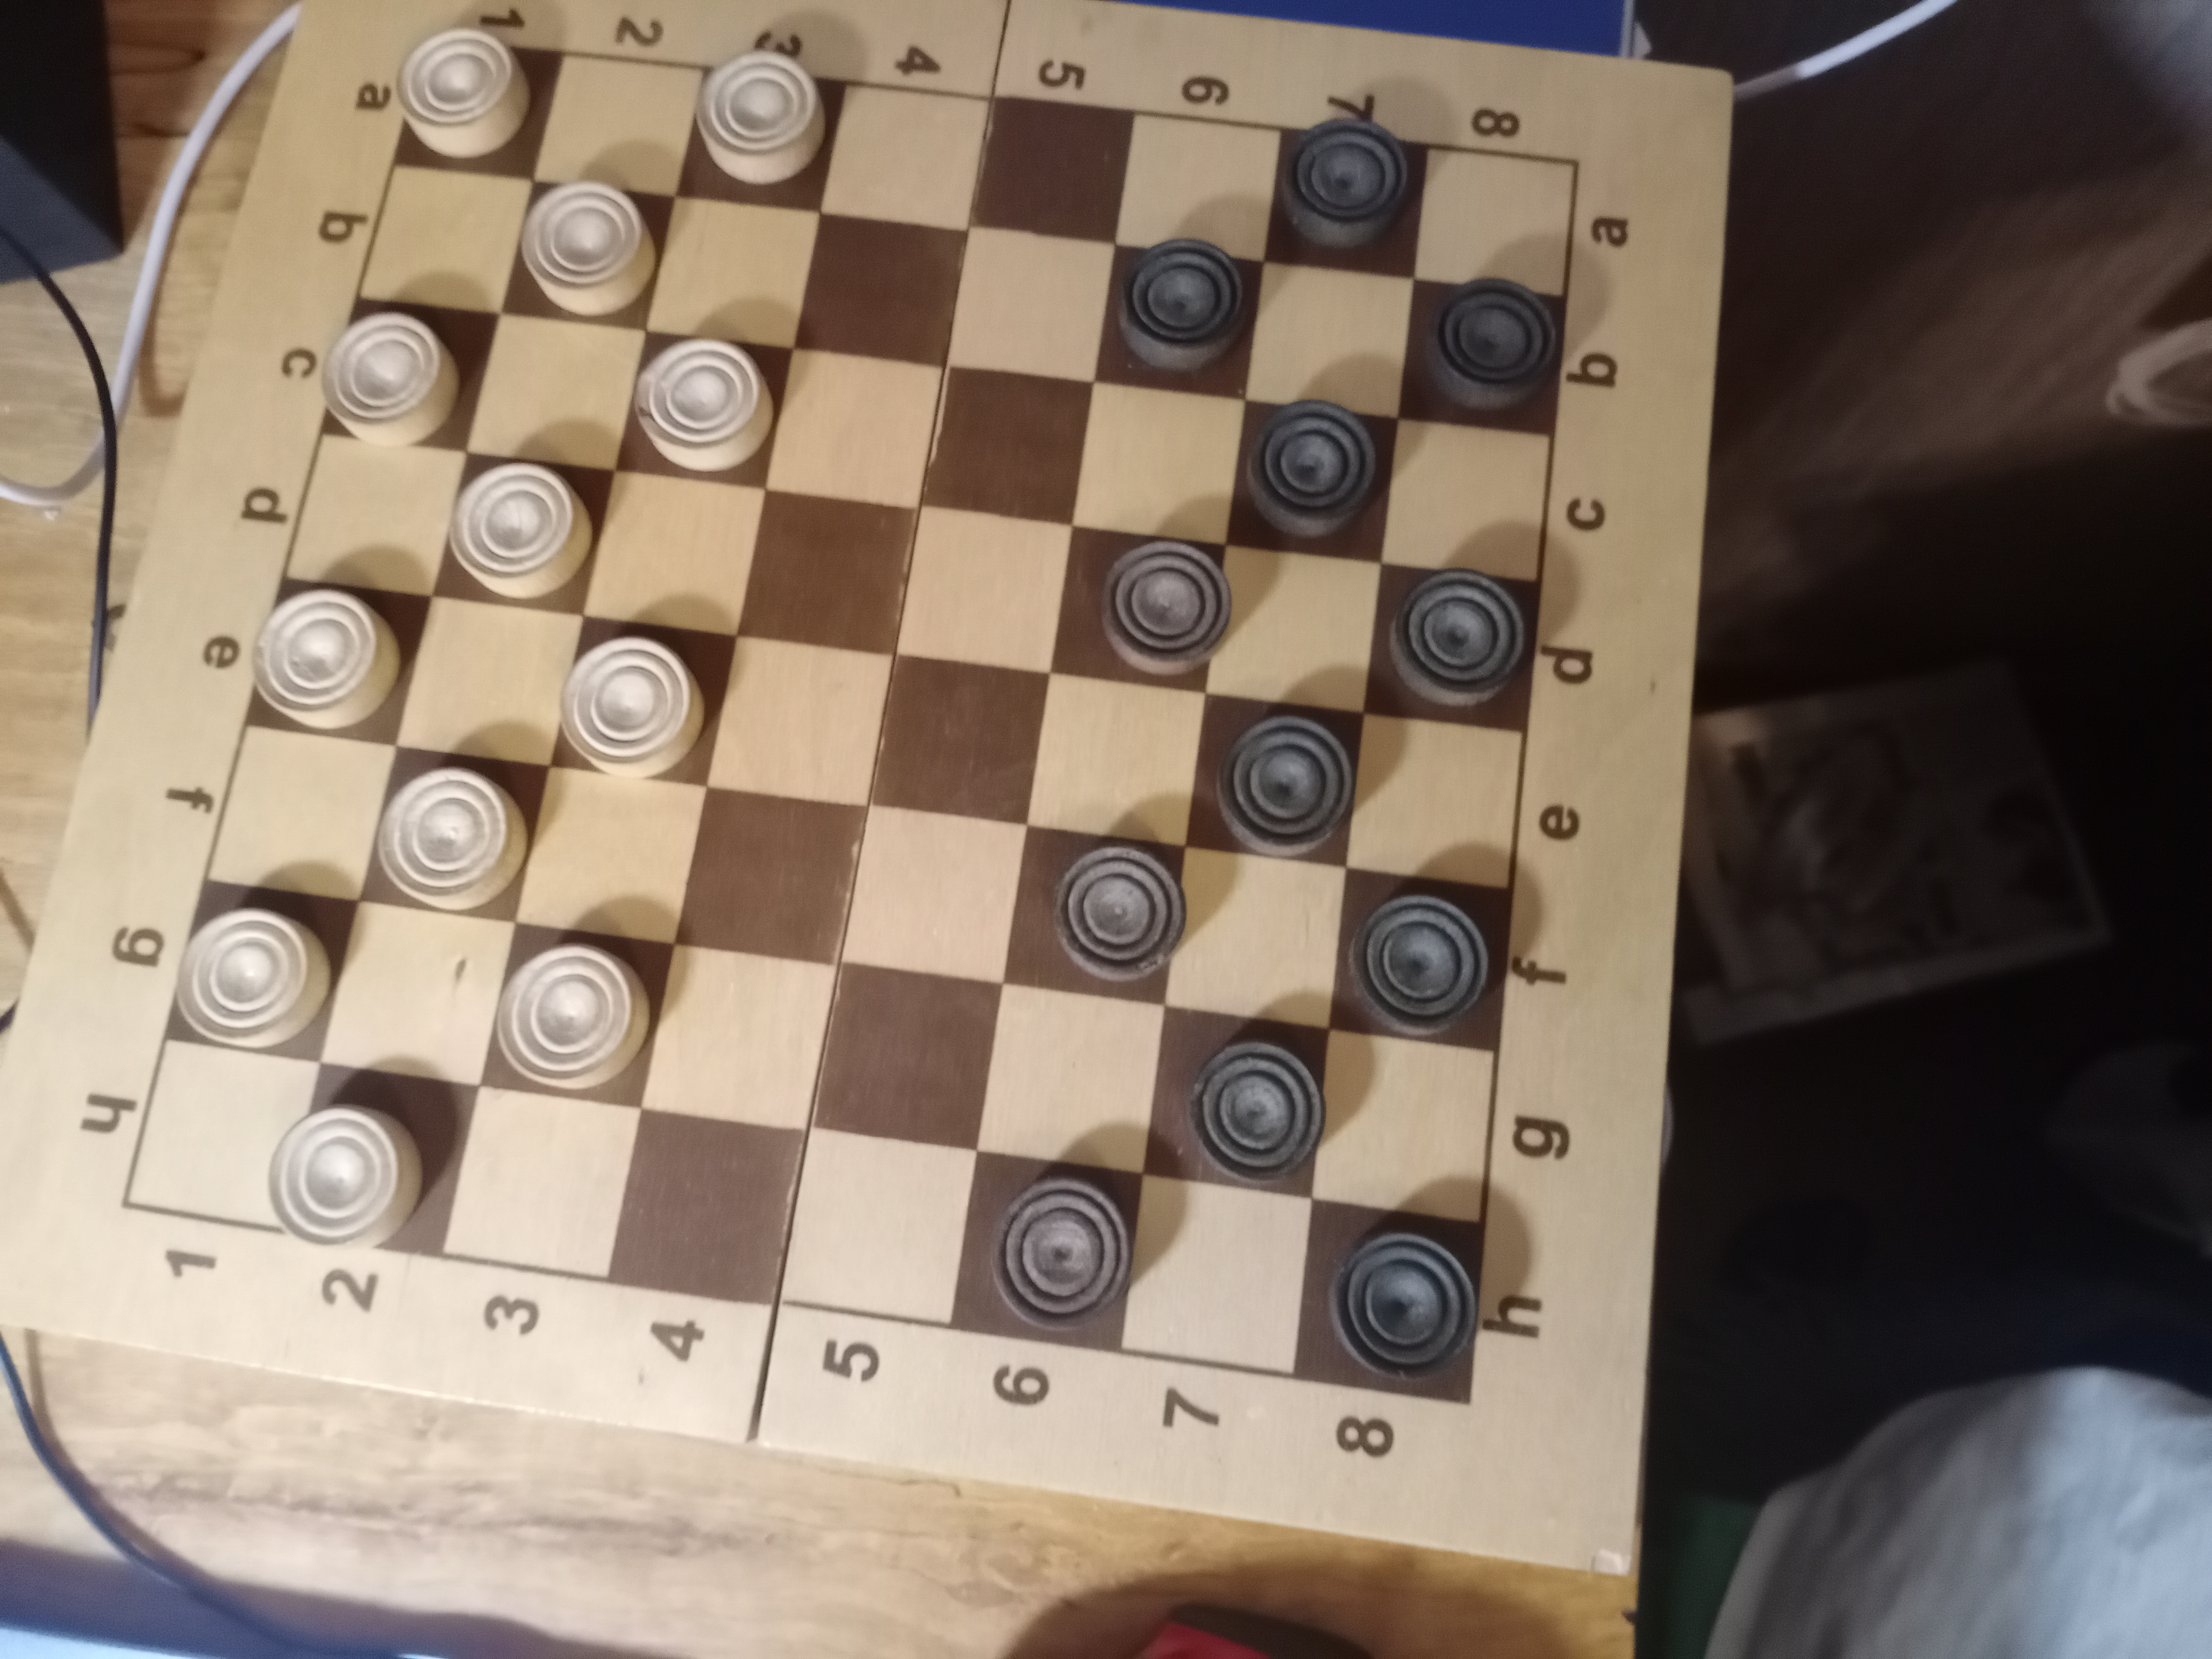White_Draught: (265, 1061, 479, 1256), (479, 922, 676, 1108), (165, 882, 359, 1061), (359, 746, 549, 920), (549, 617, 737, 788), (246, 579, 430, 746), (430, 451, 615, 615), (676, 49, 848, 213), (615, 331, 792, 490), (319, 300, 498, 450), (500, 181, 676, 333), (392, 28, 563, 179)
